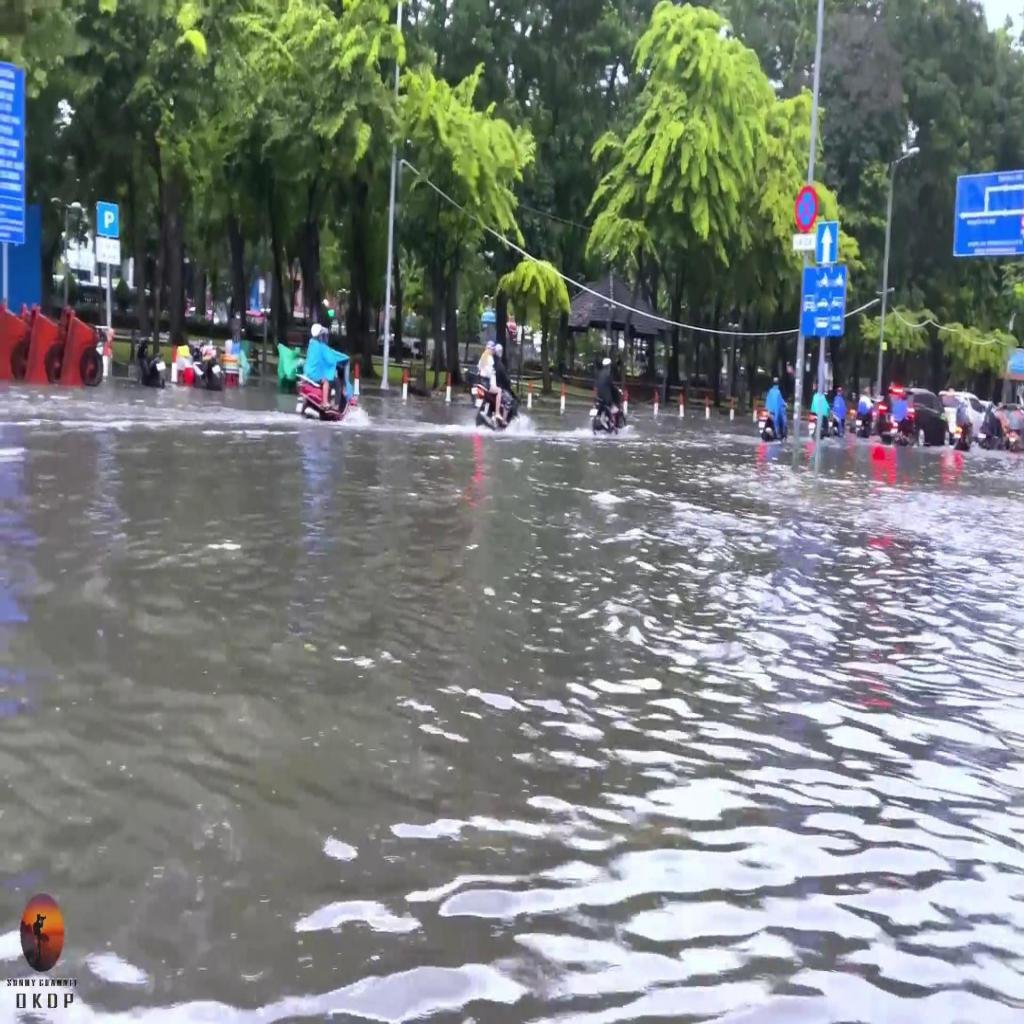cam_dung_xe_va_do_xe: (794, 186, 818, 233)
duong_mot_chieu: (815, 222, 839, 263)
khac: (954, 166, 1023, 255), (98, 202, 118, 237), (95, 237, 120, 265)
lan_duong_cho_tung_xe_theo_vach_ke_duong: (800, 266, 848, 336)
